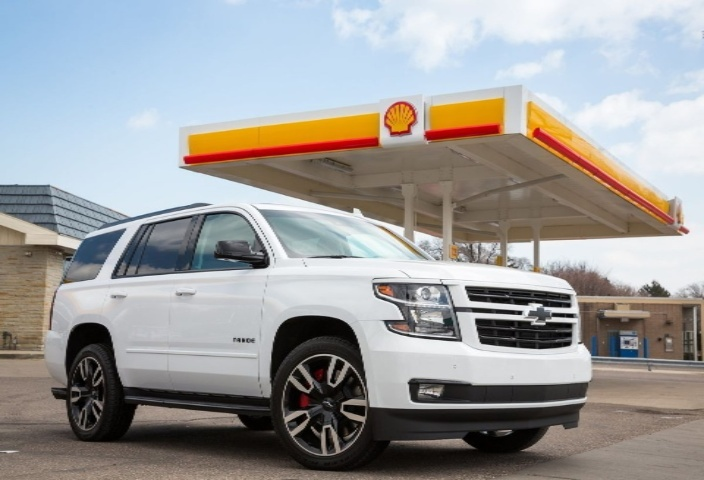camper: (32, 194, 597, 459)
